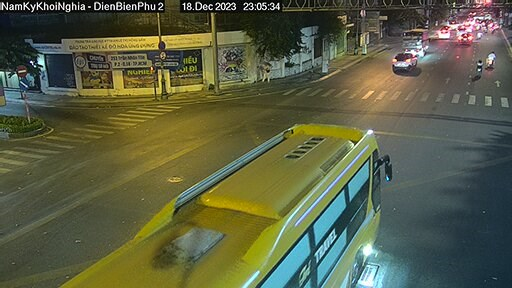bus: (154, 123, 393, 287)
car: (385, 51, 423, 73), (456, 26, 478, 50), (440, 24, 453, 41)
motorbike: (483, 53, 499, 73), (471, 58, 485, 75)
truck: (401, 31, 431, 51)
